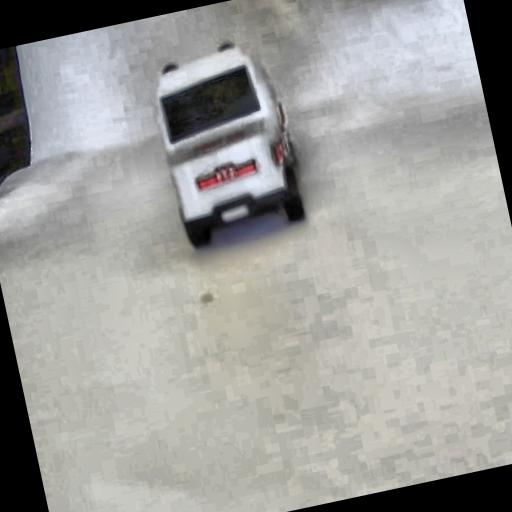ambulance: (144, 31, 310, 250)
